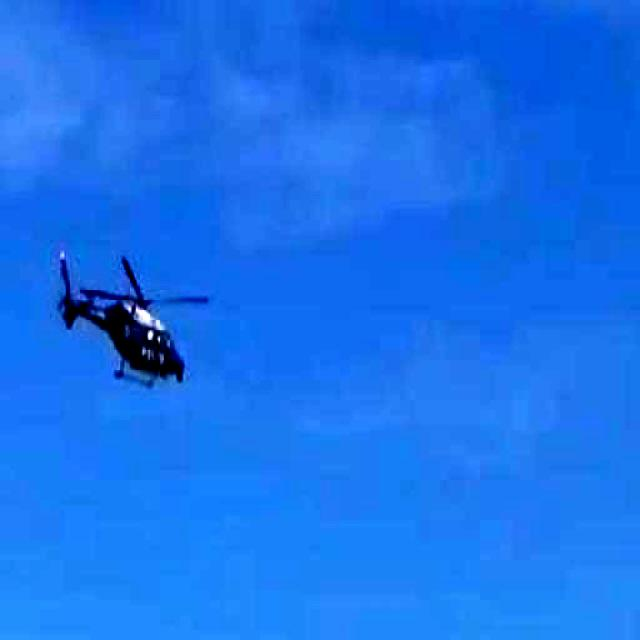drone: (28, 206, 225, 450)
